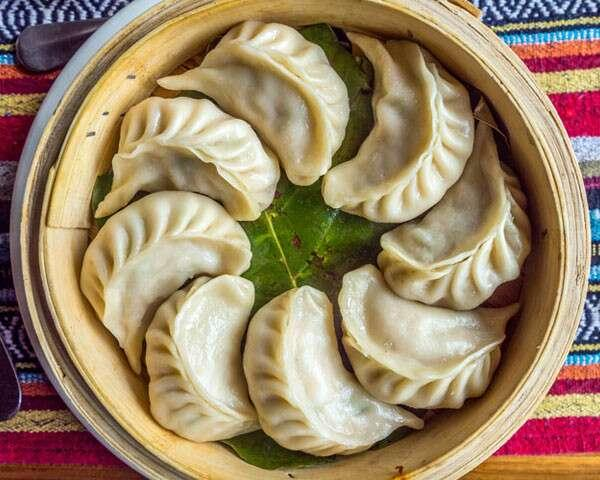momos: (377, 100, 531, 310), (158, 22, 349, 185), (82, 191, 252, 373), (243, 286, 421, 456), (322, 33, 475, 222), (339, 265, 519, 409), (95, 96, 280, 220), (145, 275, 259, 441)
